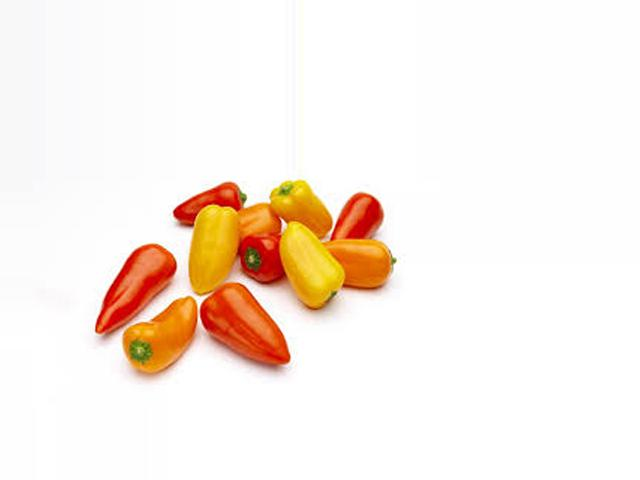bell_pepper: (163, 178, 248, 218)
